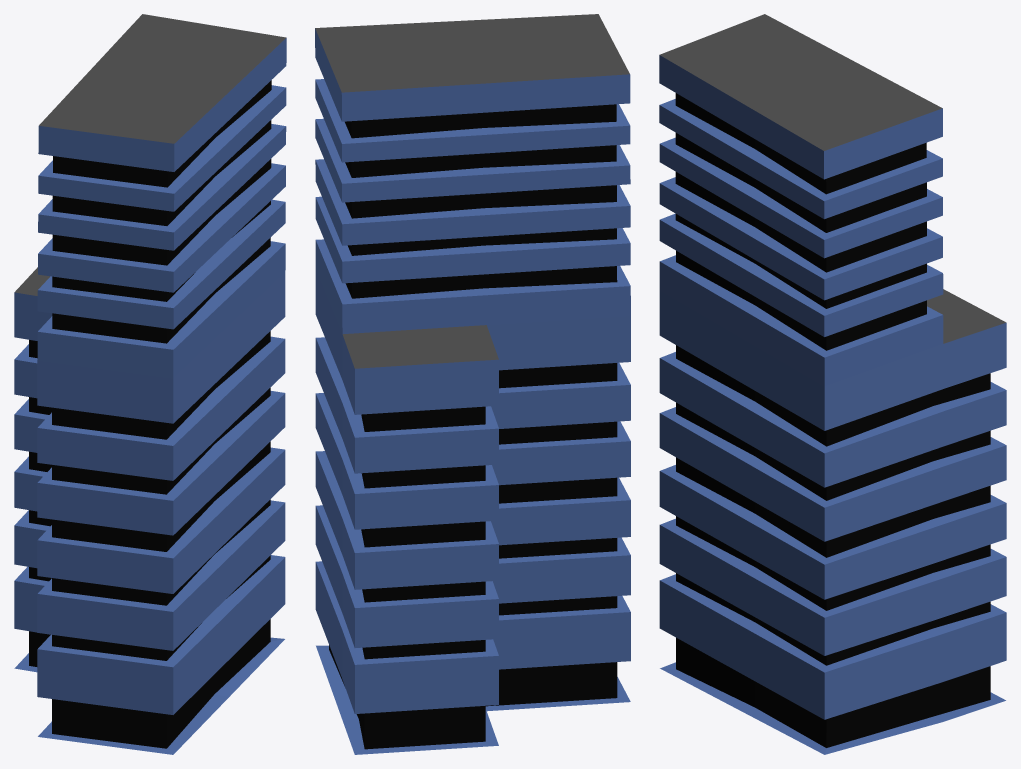
File: Skyscraper_05.fbx
3 views of the same model, side by side, from view 1: azimuth 30°, elevation 25°; view 2: azimuth 150°, elevation 25°; view 3: azimuth 270°, elevation 25° (orthographic). The views are drawn at different scales.
Parts seen in each view (by area): view 1: Building_20; view 2: Building_20; view 3: Building_20.
Boxes of the visible parts, box(x1,y1,x2,y2) form: Building_20: box(14, 14, 286, 754); Building_20: box(315, 14, 630, 754); Building_20: box(659, 14, 1006, 754).
Bounding box in the file's own units: 6155 × 12912 × 6618.
